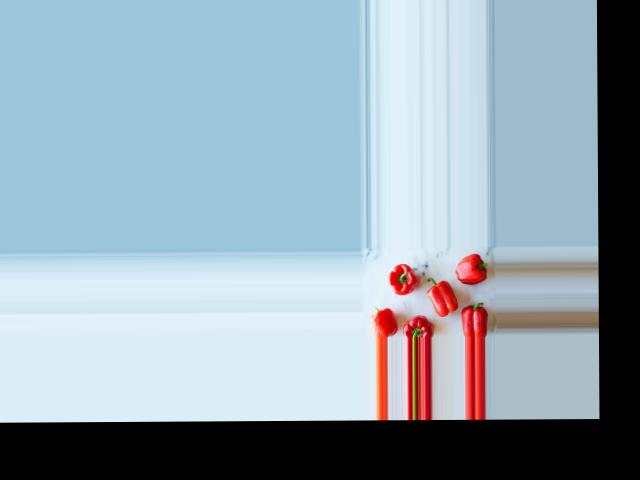bell_pepper: (403, 314, 434, 337)
